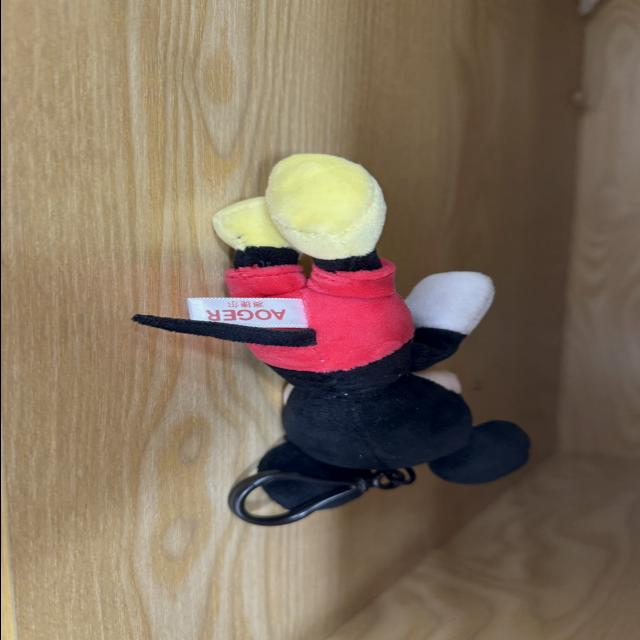mickey: (133, 155, 528, 483)
